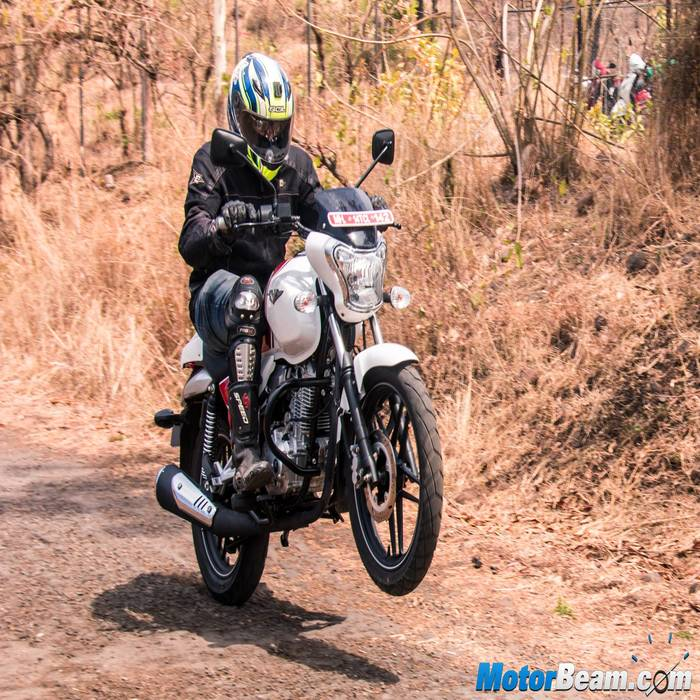h: (227, 50, 297, 181)
n: (324, 208, 395, 230)
